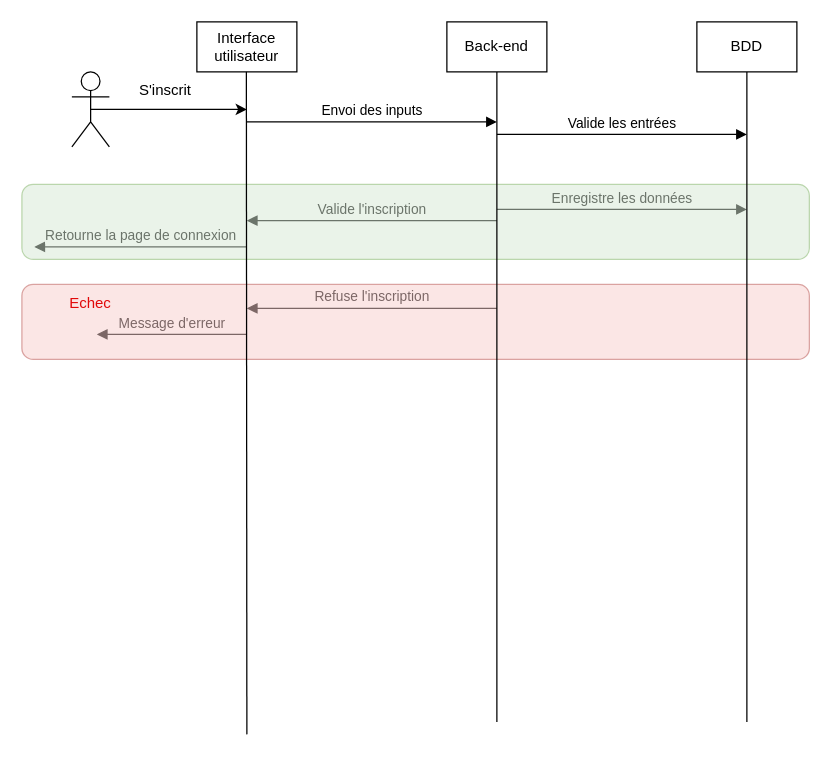
This 831x758 diagram has some shape labels left out. The centre of each missing label's shape, as x and y in pixels:
"Succès" belongs at (415,221).
"Utilisateur" belongs at (90,109).
